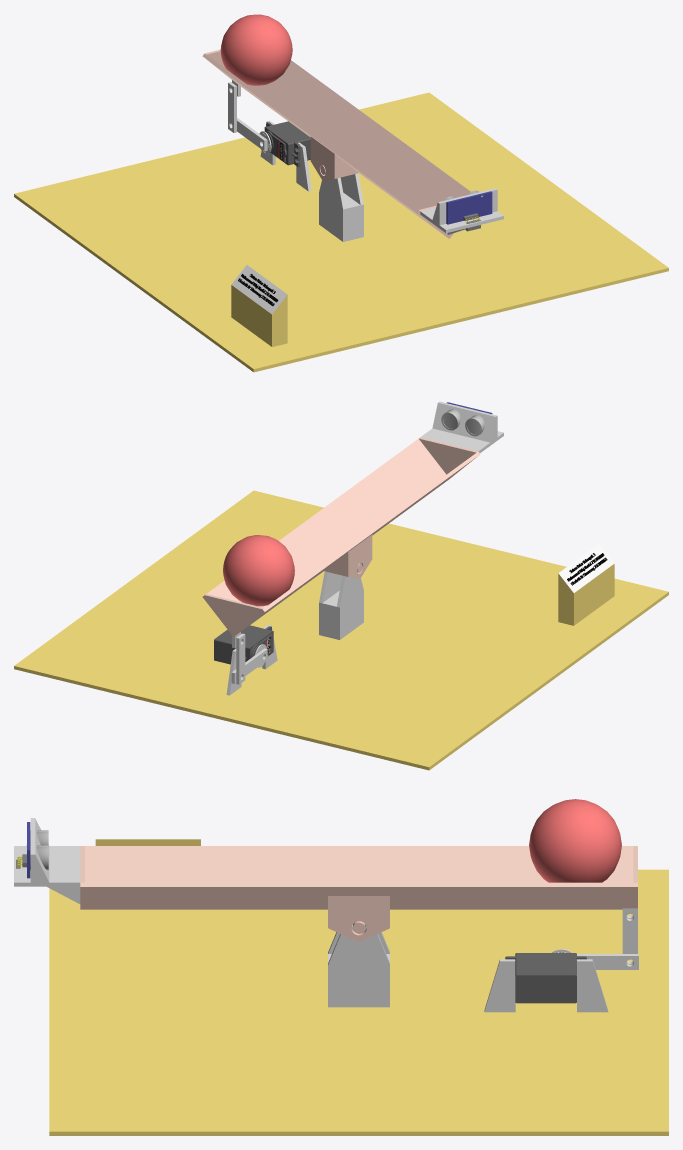
Rendered from anfissabet.glb.
3 views of the same model, one above another, from view 1: azimuth 30°, elevation 25°; view 2: azimuth 150°, elevation 25°; view 3: azimuth 270°, elevation 25° (orthographic). The views are drawn at different scales.
Visible parts, largest first — view 1: Geom3D (×5), Geom3D_ (×2); view 2: Geom3D (×5), Geom3D_ (×2); view 3: Geom3D (×3), Geom3D_ (×2).
Part boxes in pixels (<box>): Geom3D (×5): <box>14,80,668,372</box>; Geom3D_ (×2): <box>202,14,470,238</box>; Geom3D (×5): <box>14,401,668,770</box>; Geom3D_ (×2): <box>202,437,480,636</box>; Geom3D (×3): <box>14,818,668,1135</box>; Geom3D_ (×2): <box>80,799,637,942</box>.
Size of the model in its own units: 0.4 by 0.1432 by 0.4228.
Materials: 13 (3 with a texture image).
